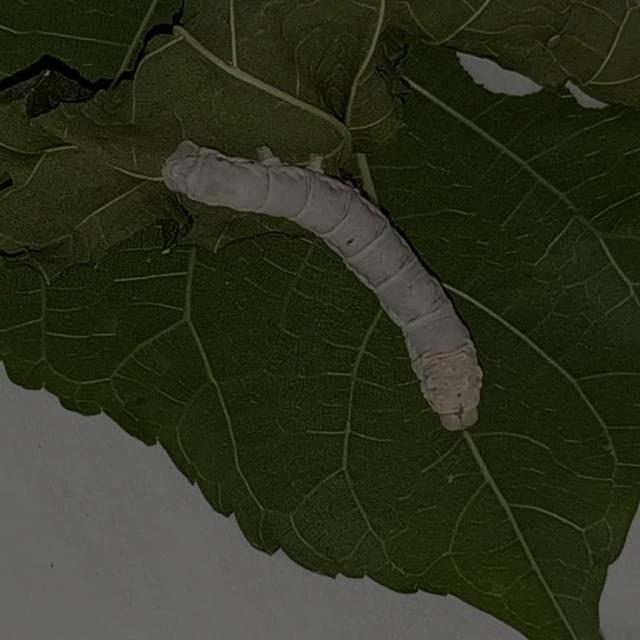Healthy: (135, 92, 512, 469)
